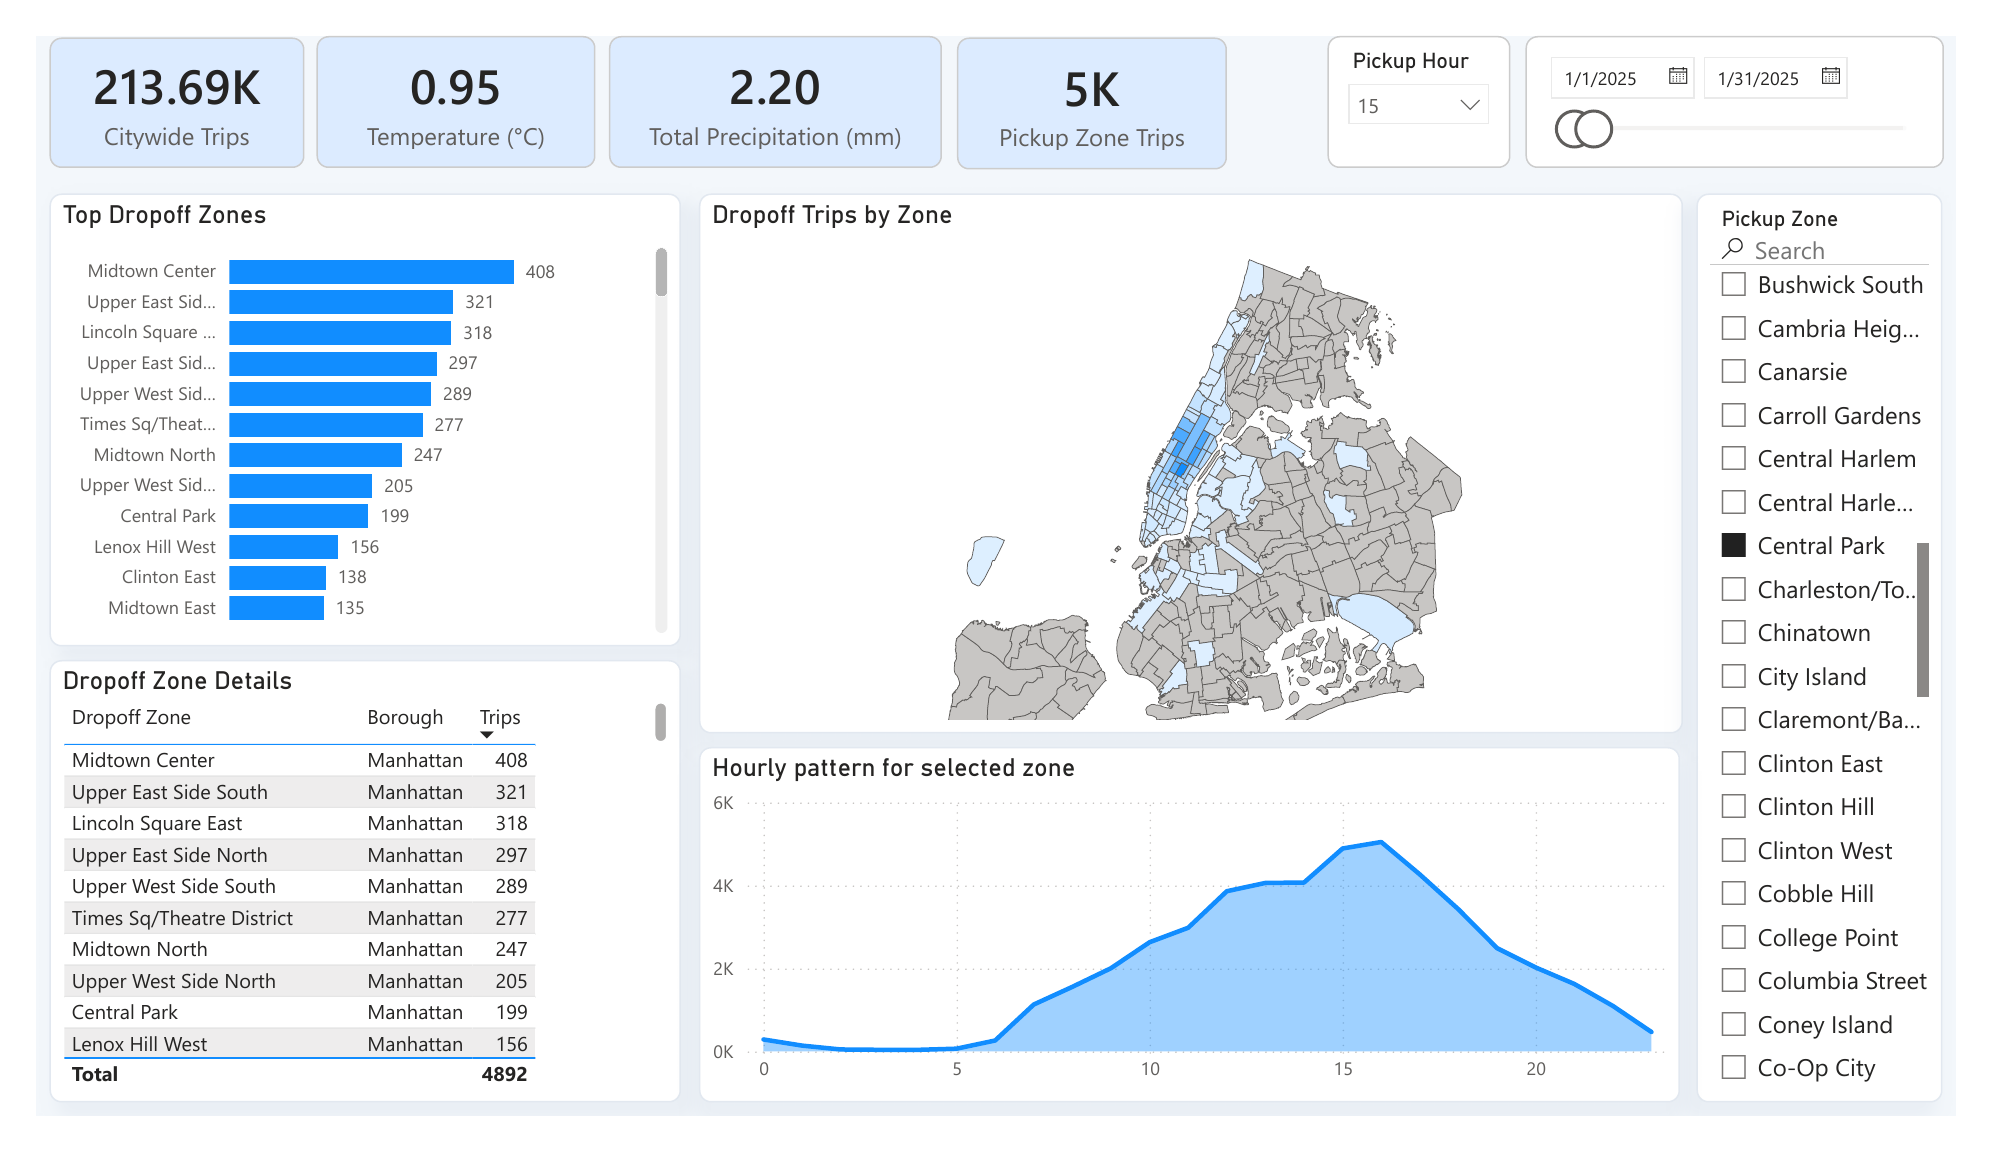

This screenshot's page, from the dashboard's own definition file:
{"tool":"powerbi","page":{"name":"Routes and Weather","canvas":[1280,720],"ordinal":1},"visuals":[{"type":"slicer","fields":{"Values":["mart_taxi_weather_hourly.analysis_date"]},"box":[992.9,0,279.2,88],"z":0},{"type":"slicer","fields":{"Values":["mart_taxi_weather_hourly.hour_of_day"]},"box":[861.4,0,121.1,88],"z":1000},{"type":"cardVisual","fields":{"Data":["Sum(mart_taxi_weather_hourly.total_trip_records)"]},"box":[9.1,1.1,169.5,86.4],"z":2000},{"type":"cardVisual","fields":{"Data":["Avg(mart_taxi_weather_hourly.temperature_2m)"]},"box":[186.5,0,186.1,88],"z":3000},{"type":"cardVisual","fields":{"Data":["Sum(mart_taxi_weather_hourly.precipitation)"]},"box":[382.2,0,221.8,88],"z":4000},{"type":"cardVisual","fields":{"Data":["Sum(mart_taxi_routes_hourly.trip_count)"]},"box":[614.2,1.1,179.8,88],"z":5000},{"type":"barChart","title":"Top Dropoff Zones","fields":{"Category":["mart_taxi_routes_hourly.dropoff_zone"],"Y":["Sum(mart_taxi_routes_hourly.trip_count)"]},"box":[8.9,104.5,420.7,302.2],"z":6000},{"type":"tableEx","title":"Dropoff Zone Details","fields":{"Values":["mart_taxi_routes_hourly.dropoff_zone","mart_taxi_routes_hourly.dropoff_borough","Sum(mart_taxi_routes_hourly.trip_count)"]},"box":[8.9,415.6,420.7,295.8],"z":7000},{"type":"shapeMap","title":"Dropoff Trips by Zone","fields":{"Category":["mart_taxi_routes_hourly.dropoff_location_id"],"Value":["Sum(mart_taxi_routes_hourly.trip_count)"]},"box":[442.4,104.5,655.3,360.8],"z":8000},{"type":"slicer","fields":{"Values":["taxi_zone_lookup.zone"]},"box":[1106.6,104.5,164.5,606.9],"z":9000},{"type":"areaChart","title":"Hourly pattern for selected zone","fields":{"Category":["mart_taxi_weather_hourly.hour_of_day"],"Y":["Sum(mart_taxi_routes_hourly.trip_count)"]},"box":[442.4,474.3,654,237.1],"z":10000}]}

Visuals, with their boxes in screenshot pixels (x1, y1, x2, y2), scaled from the page's 1280x720 canvas onto the 1992x1152 screenshot:
slicer - mart_taxi_weather_hourly.analysis_date: pyautogui.locateOnScreen(1545, 0, 1980, 141)
slicer - mart_taxi_weather_hourly.hour_of_day: pyautogui.locateOnScreen(1341, 0, 1529, 141)
cardVisual - Sum(mart_taxi_weather_hourly.total_trip_records): pyautogui.locateOnScreen(14, 2, 278, 140)
cardVisual - Avg(mart_taxi_weather_hourly.temperature_2m): pyautogui.locateOnScreen(290, 0, 580, 141)
cardVisual - Sum(mart_taxi_weather_hourly.precipitation): pyautogui.locateOnScreen(595, 0, 940, 141)
cardVisual - Sum(mart_taxi_routes_hourly.trip_count): pyautogui.locateOnScreen(956, 2, 1236, 143)
"Top Dropoff Zones" barChart: pyautogui.locateOnScreen(14, 167, 669, 651)
"Dropoff Zone Details" tableEx: pyautogui.locateOnScreen(14, 665, 669, 1138)
"Dropoff Trips by Zone" shapeMap: pyautogui.locateOnScreen(688, 167, 1708, 744)
slicer - taxi_zone_lookup.zone: pyautogui.locateOnScreen(1722, 167, 1978, 1138)
"Hourly pattern for selected zone" areaChart: pyautogui.locateOnScreen(688, 759, 1706, 1138)
